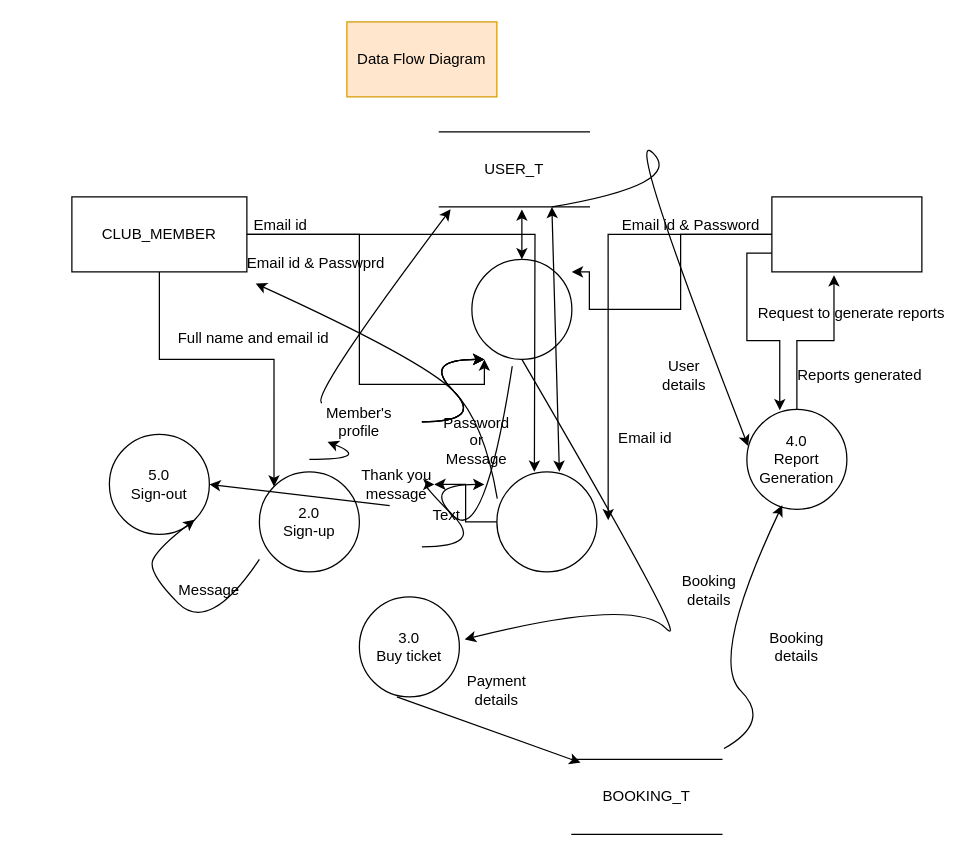
The diagram is 980 pixels wide and 856 high, and some of its shapes have lost their labels. Here are the shapes that lost their labels. From the top down, the centre of each, then its label:
At [846,234]: "CLUB_EMPLOYEE".
At [521,308]: "1.0 Sign-in".
At [546,521]: "6.0 Recover Password".
